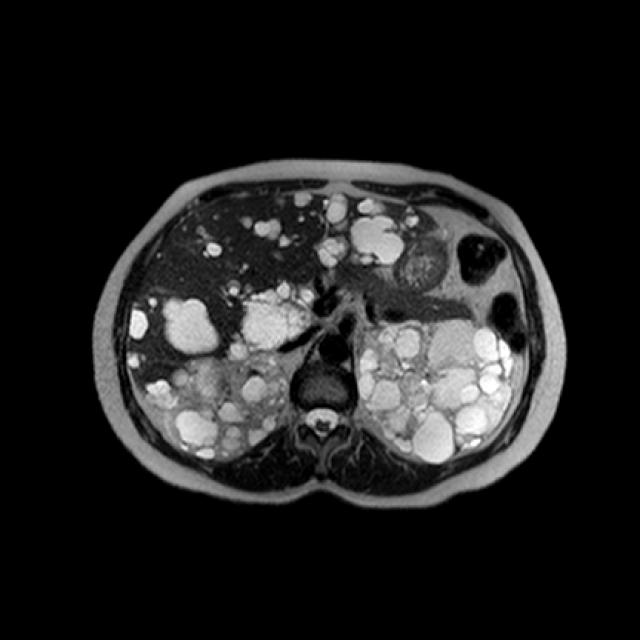sag: (168, 342, 288, 457)
sol: (359, 317, 515, 461)
